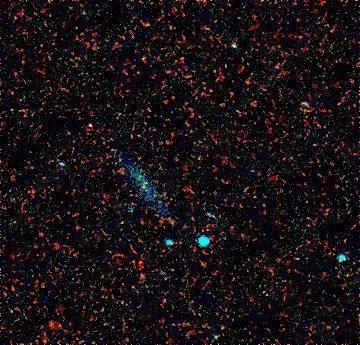star: (126, 46, 156, 76)
